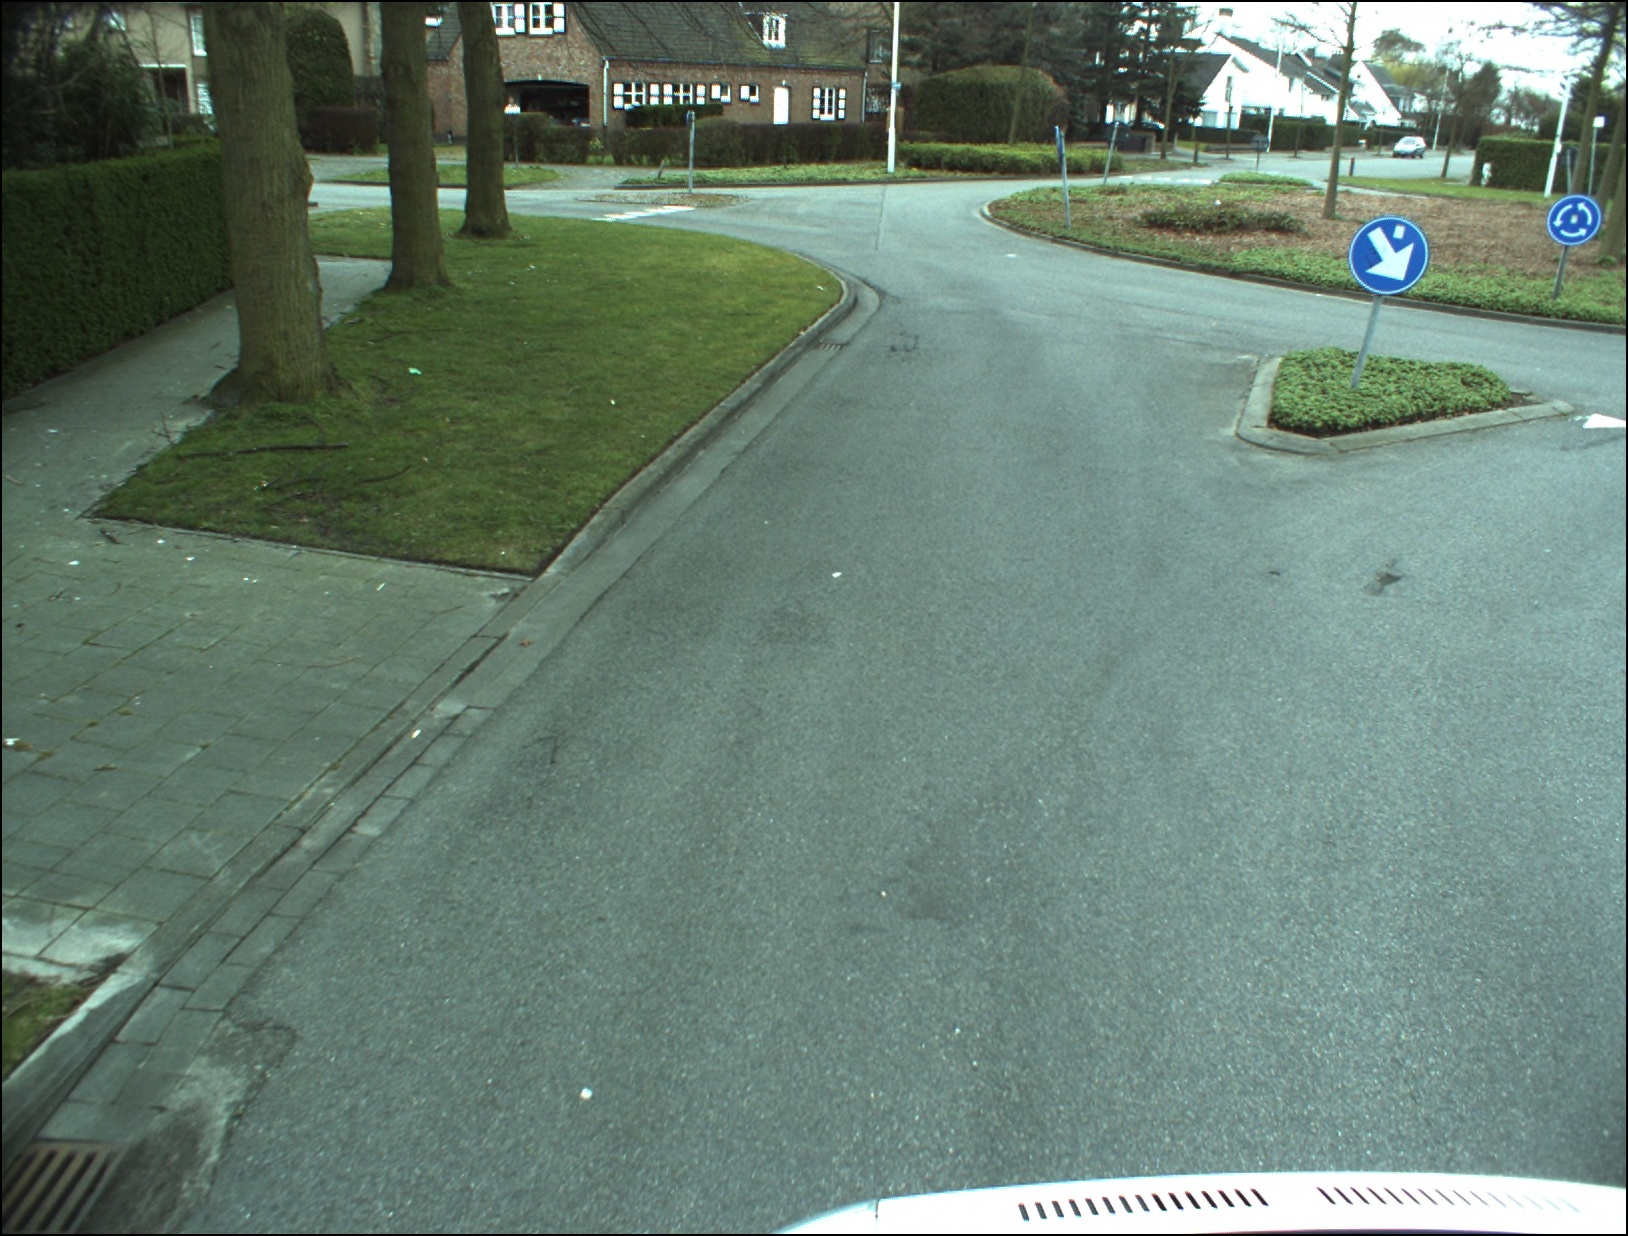passright: (1348, 217, 1425, 295)
roundabout: (1548, 196, 1597, 245)
